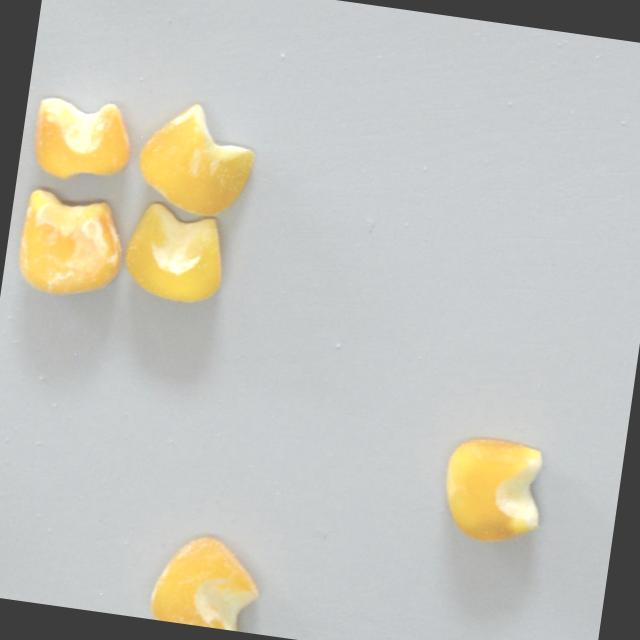no_canjicado: (436, 432, 551, 548), (120, 198, 231, 309), (29, 92, 137, 188)
pelicula: (131, 97, 260, 223), (11, 186, 131, 306), (146, 529, 266, 634)
